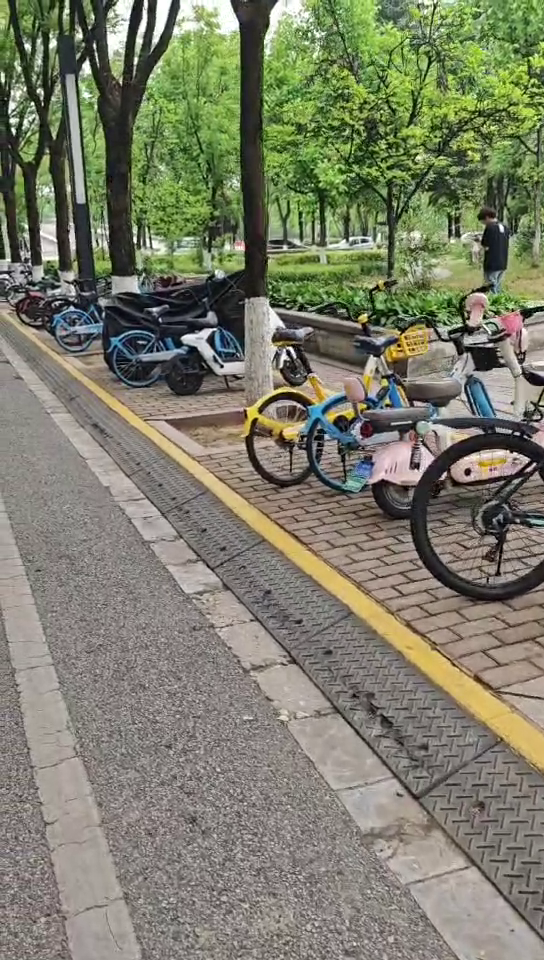others: (361, 321, 544, 512)
shared_bike_haluo: (329, 334, 505, 480), (118, 293, 235, 387), (52, 288, 123, 348)
shared_bike_meituan: (244, 294, 404, 496)
